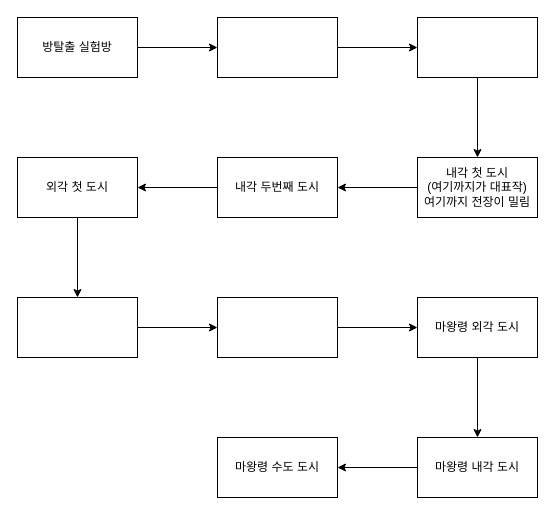
This 555x515 diagram has some shape labels left out. Here are the shapes that lost their labels. From the top down, the centre of each, then its label:
point (277, 47): 이세계 마을 앞 언덕
point (477, 47): 이세계 수도도시
point (77, 327): 외각 마지막 도시
point (277, 327): 패전의 들판
